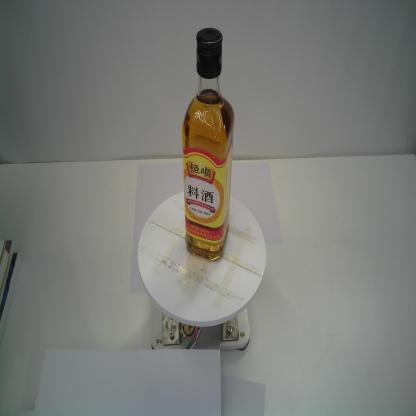Seasoner: (179, 25, 237, 263)
